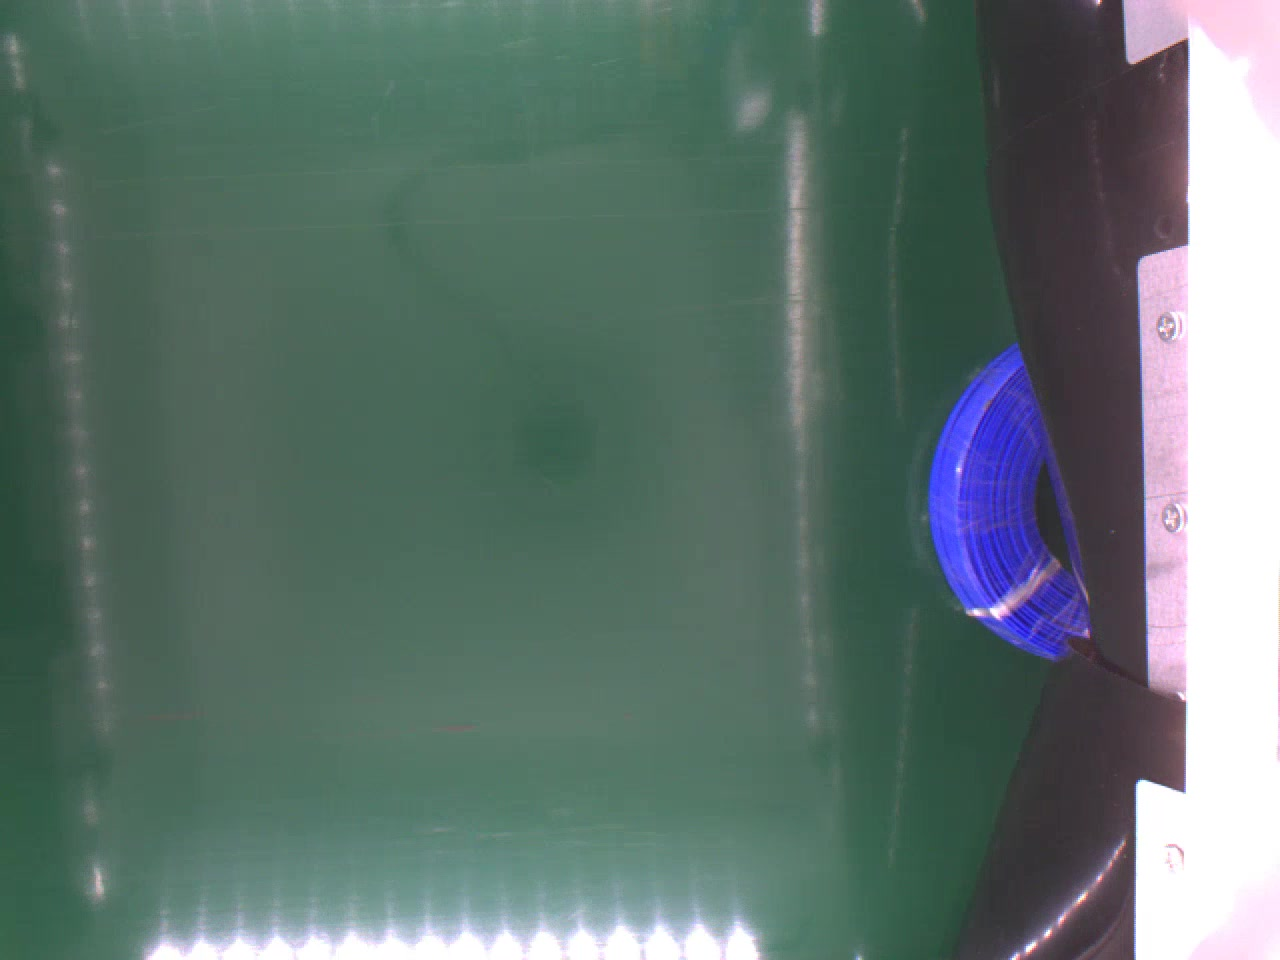blue: (924, 342, 1089, 659)
